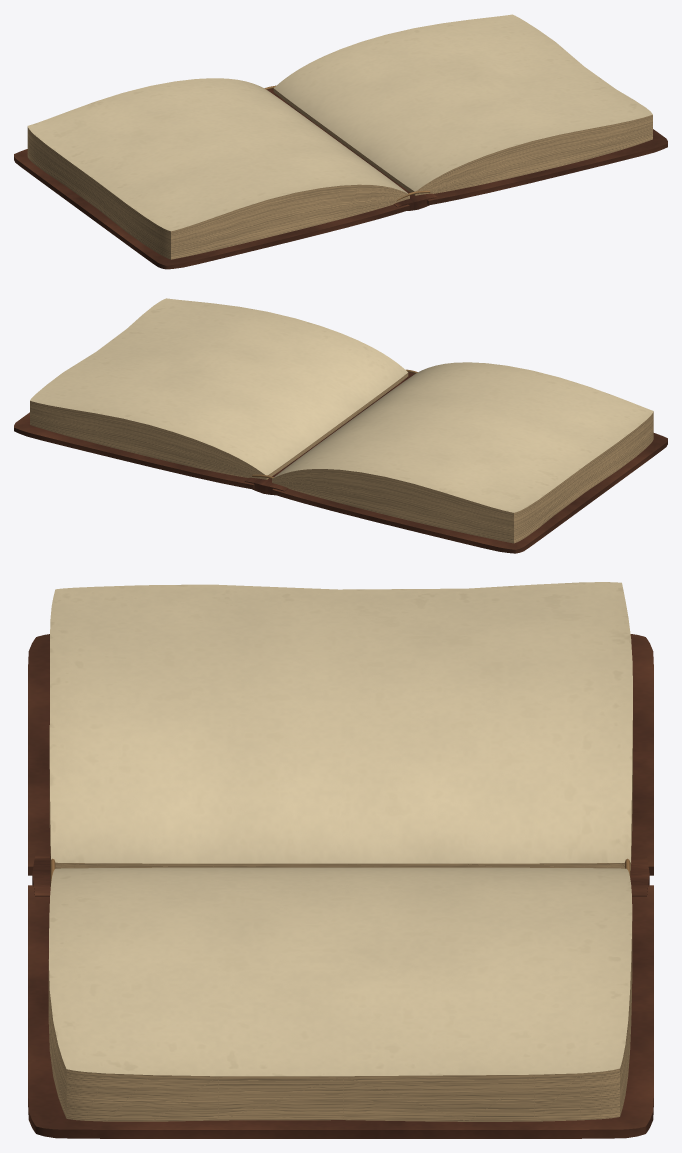
Rendered from OpenBook_01.fbx.
3 renders of one model, top to bottom at view 1: azimuth 30°, elevation 25°; view 2: azimuth 150°, elevation 25°; view 3: azimuth 270°, elevation 25°, orthographic. The views are drawn at different scales.
Visible parts, largest first — view 1: OpenBook_01.001; view 2: OpenBook_01.001; view 3: OpenBook_01.001.
Boxes of the visible parts, x1,y1,x2,y2 form: OpenBook_01.001: [14, 14, 667, 269]; OpenBook_01.001: [14, 298, 667, 553]; OpenBook_01.001: [28, 582, 653, 1138].
Bounding box in the file's own units: 0.428 × 0.0343 × 0.228.
